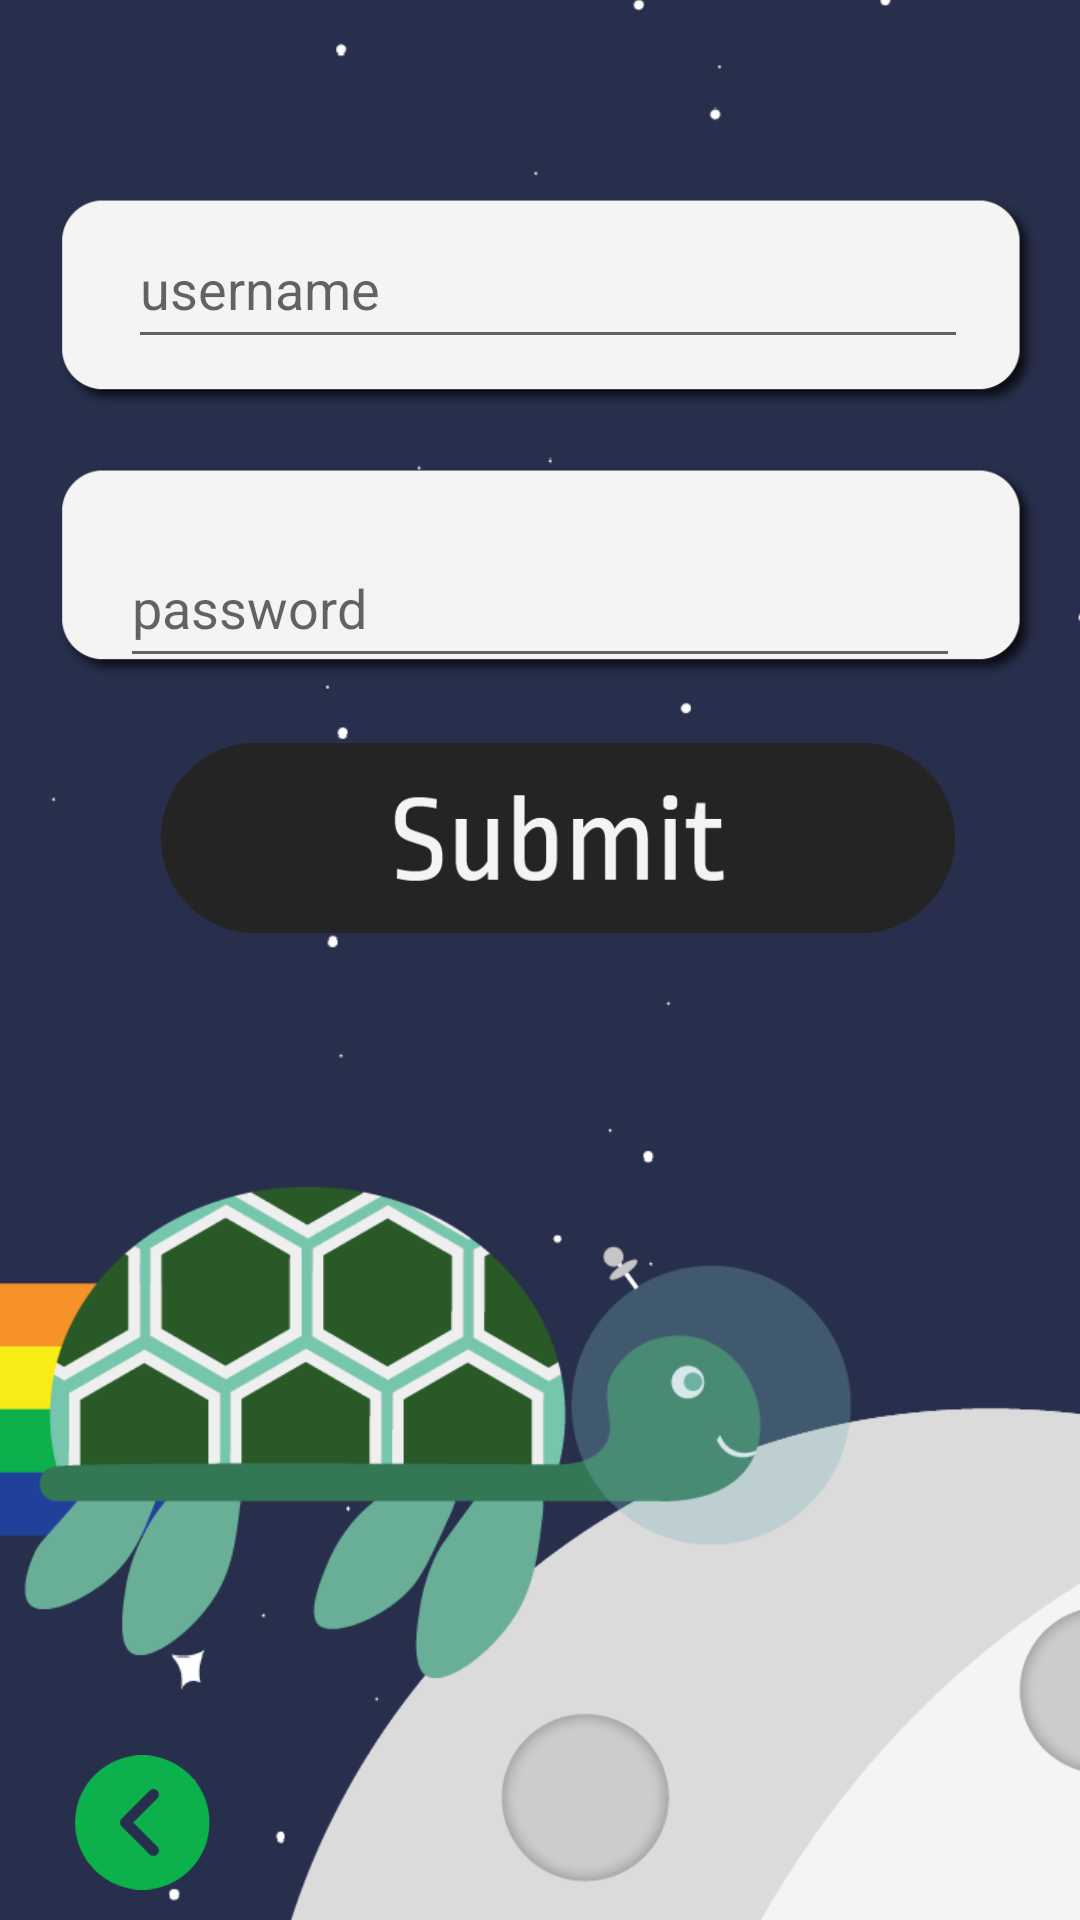

Icons on this 1080px×1920px Android screen, each with the point to tap as point (x, y):
back: point (142, 1822)
